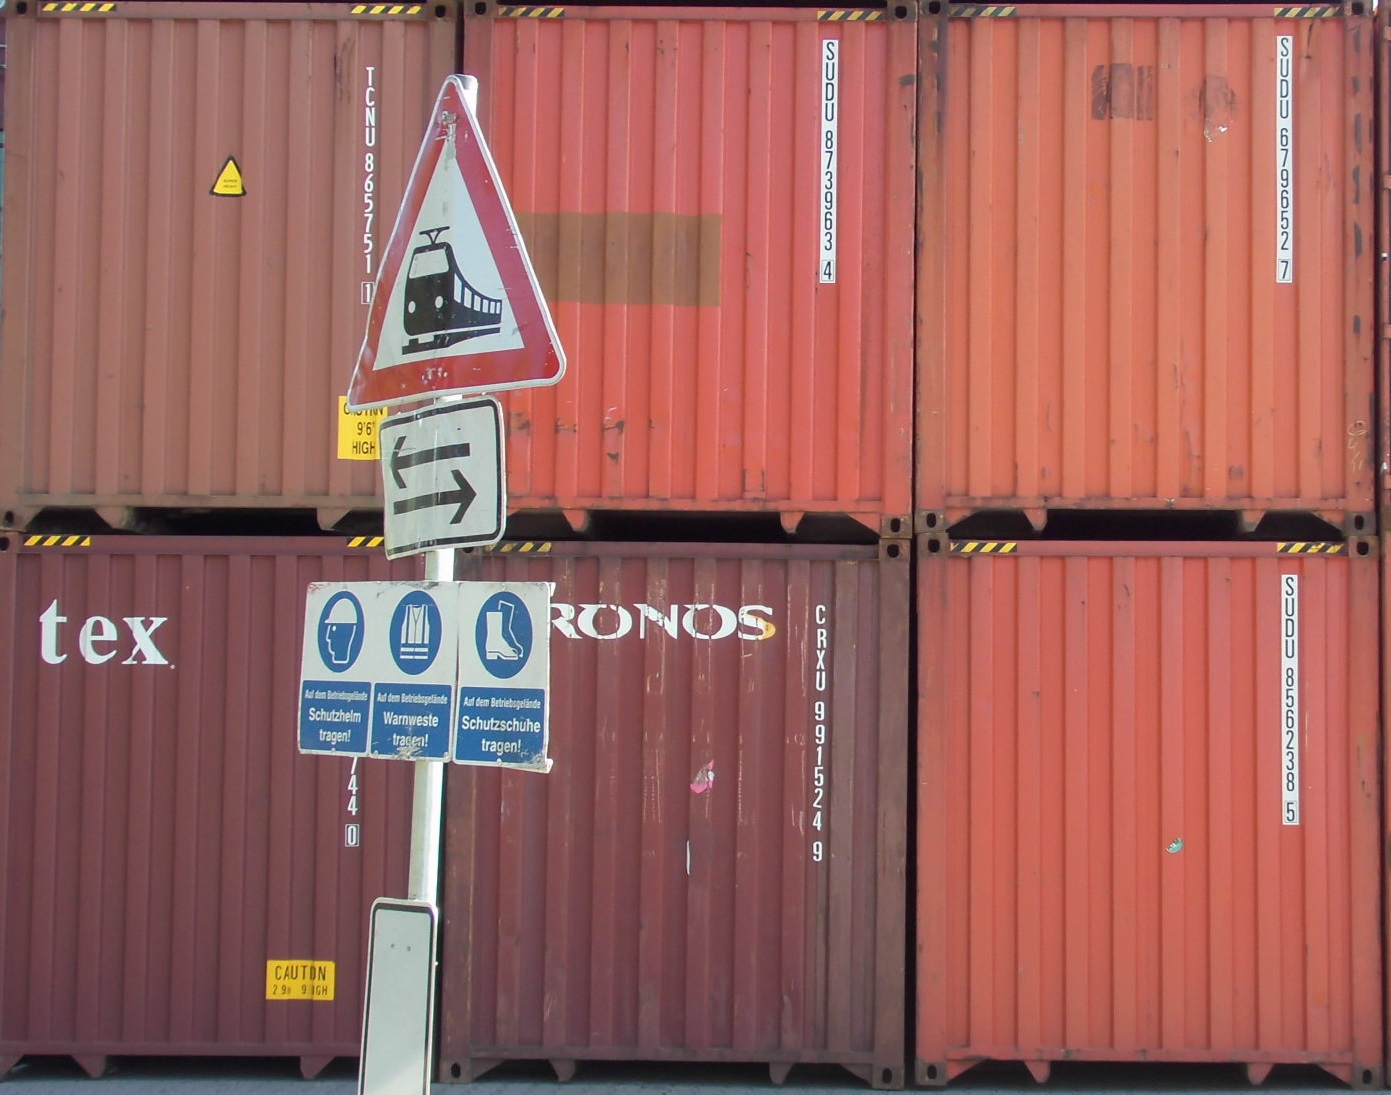container_no_door: (917, 538, 1391, 1087), (435, 542, 909, 1090), (919, 1, 1377, 533), (465, 1, 903, 535), (9, 5, 457, 525), (1, 529, 415, 1087)
